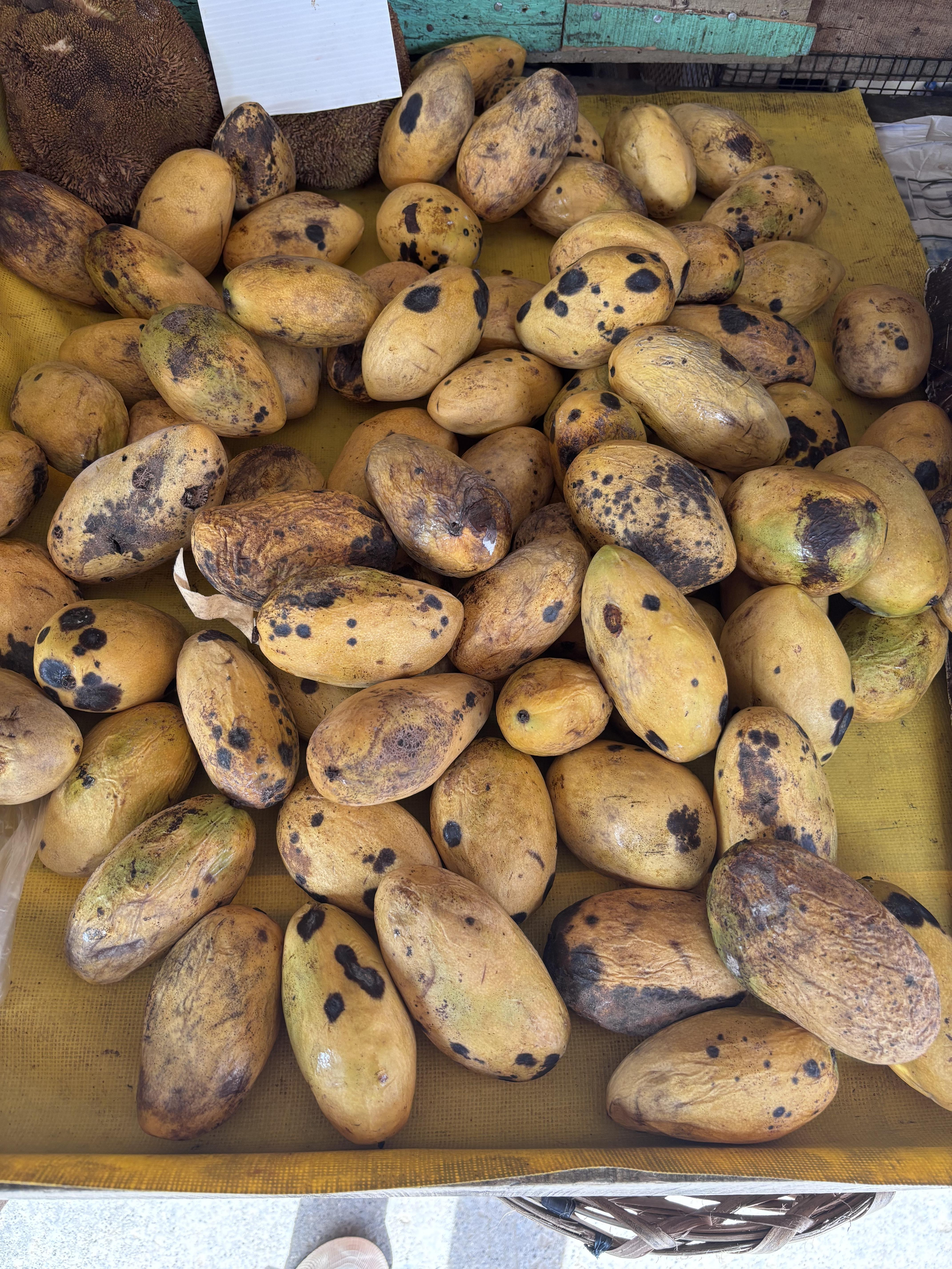mango: (707, 839, 941, 1065), (374, 865, 570, 1083), (65, 794, 256, 984), (137, 906, 283, 1140), (282, 902, 416, 1145), (581, 545, 728, 762), (606, 1007, 838, 1143), (257, 566, 463, 688), (306, 673, 492, 806), (176, 629, 299, 808), (365, 434, 512, 578), (726, 467, 887, 597), (140, 304, 286, 437), (457, 68, 577, 222), (362, 266, 488, 401), (223, 255, 381, 347), (427, 348, 562, 436), (832, 285, 932, 397)
occluded: (544, 887, 746, 1039), (48, 423, 228, 584), (39, 702, 198, 876), (608, 325, 788, 476), (546, 737, 717, 890), (564, 440, 736, 592), (191, 490, 398, 608), (808, 445, 948, 618), (720, 584, 854, 763), (430, 738, 557, 924), (277, 777, 440, 916), (860, 877, 952, 1111), (450, 537, 588, 680), (516, 246, 675, 369), (713, 706, 837, 862), (33, 599, 186, 712), (0, 171, 106, 307), (10, 361, 129, 477), (131, 149, 236, 275), (85, 224, 224, 319), (132, 149, 236, 275), (327, 406, 458, 506), (548, 211, 689, 300), (378, 61, 474, 190), (838, 609, 948, 721), (670, 301, 815, 385), (496, 657, 612, 756), (0, 538, 81, 679), (0, 669, 83, 805), (223, 192, 364, 269), (604, 104, 696, 220), (702, 165, 827, 250), (523, 156, 647, 237), (670, 102, 774, 198), (462, 427, 553, 535), (549, 389, 646, 489), (731, 240, 844, 325), (212, 102, 296, 215), (377, 182, 482, 272), (58, 318, 156, 409), (860, 401, 952, 494), (265, 666, 359, 748), (411, 35, 527, 100), (767, 383, 850, 467), (671, 222, 744, 304), (223, 445, 324, 504), (256, 336, 323, 421), (0, 430, 48, 537), (476, 275, 540, 355), (513, 501, 585, 549), (362, 261, 428, 307), (126, 398, 190, 444), (324, 342, 371, 403), (567, 112, 604, 161), (688, 597, 725, 645), (696, 464, 735, 505), (812, 596, 829, 616)
